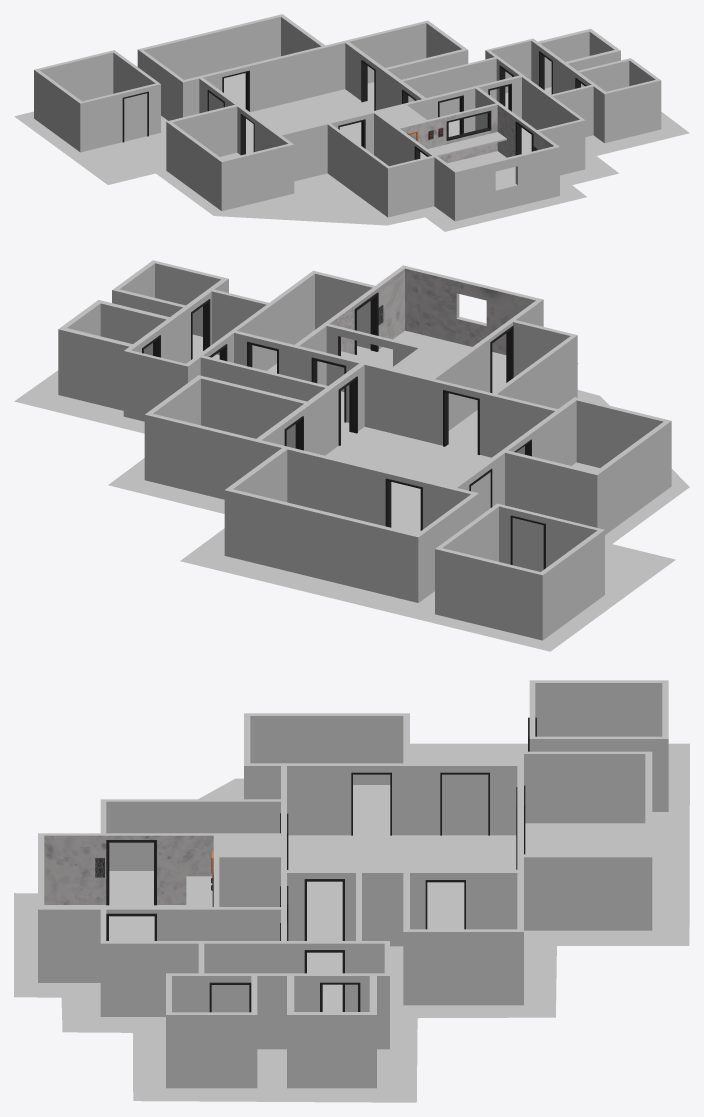
Rendered from map.fbx.
The picture shows the model from 3 angles, top to bottom: view 1: azimuth 30°, elevation 25°; view 2: azimuth 150°, elevation 25°; view 3: azimuth 270°, elevation 25°; orthographic projection. The views are drawn at different scales.
Parts seen in each view (by area): view 1: Cube; view 2: Cube; view 3: Cube.
Part boxes in pixels (x1,y1,x2,y2): Cube: [14, 14, 689, 231]; Cube: [14, 260, 689, 651]; Cube: [14, 680, 689, 1102].
Size of the model in its own units: 3748 by 2983 by 358.
Materials: 9 (6 with a texture image).
